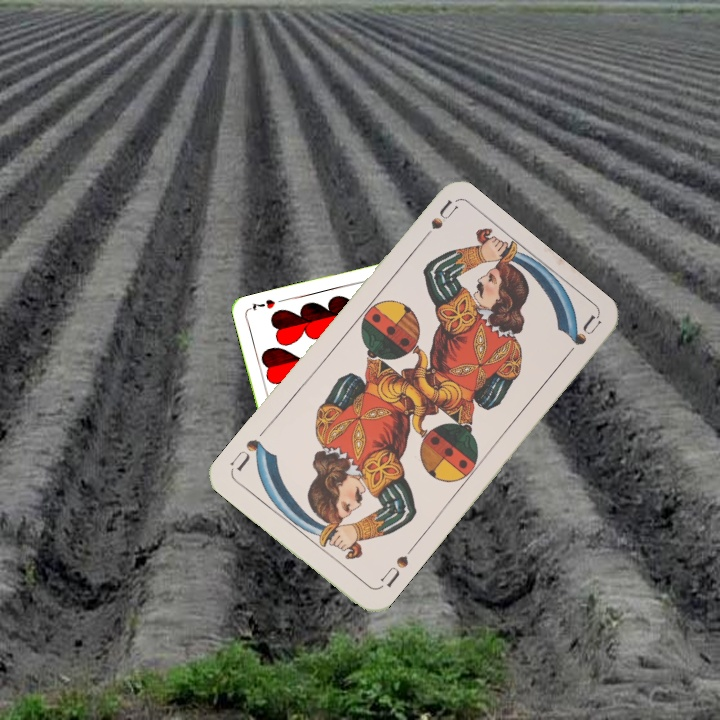SU: (413, 197, 460, 249), (374, 542, 417, 592)
